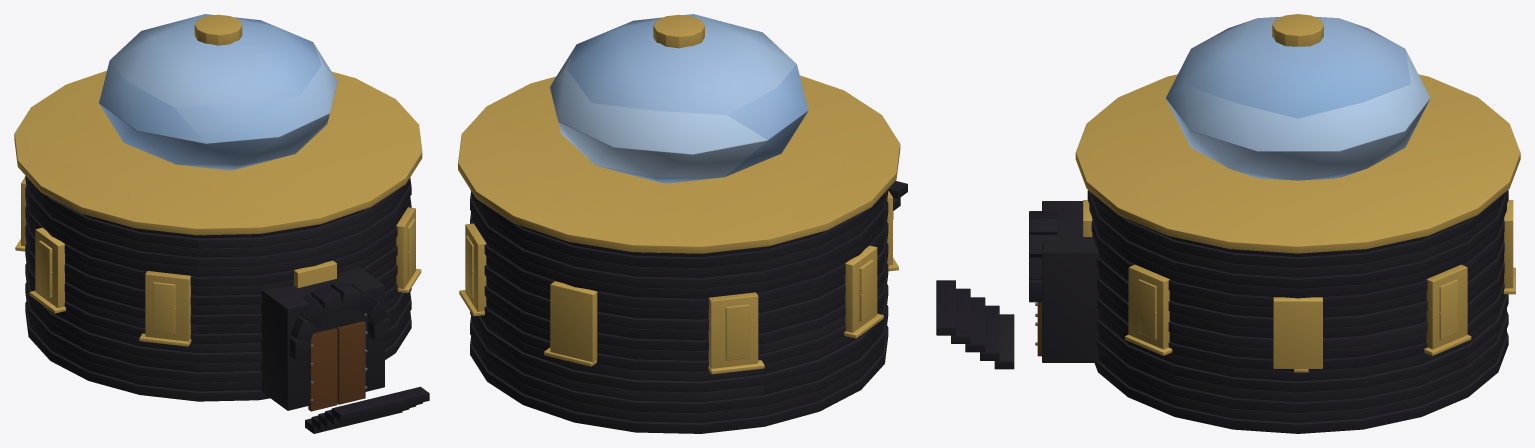
The model's file is building_conjuring_hall.fbx.
3 renders of one model, left to right at view 1: azimuth 30°, elevation 25°; view 2: azimuth 150°, elevation 25°; view 3: azimuth 270°, elevation 25°, orthographic. The views are drawn at different scales.
Visible parts, largest first — view 1: building_conjuring_hall; view 2: building_conjuring_hall; view 3: building_conjuring_hall.
Boxes of the visible parts, bbox=[...] form: building_conjuring_hall: bbox=[14, 14, 429, 433]; building_conjuring_hall: bbox=[458, 14, 907, 433]; building_conjuring_hall: bbox=[936, 14, 1520, 433].
Bounding box in the file's own units: 8.56 × 6.82 × 11.24.
